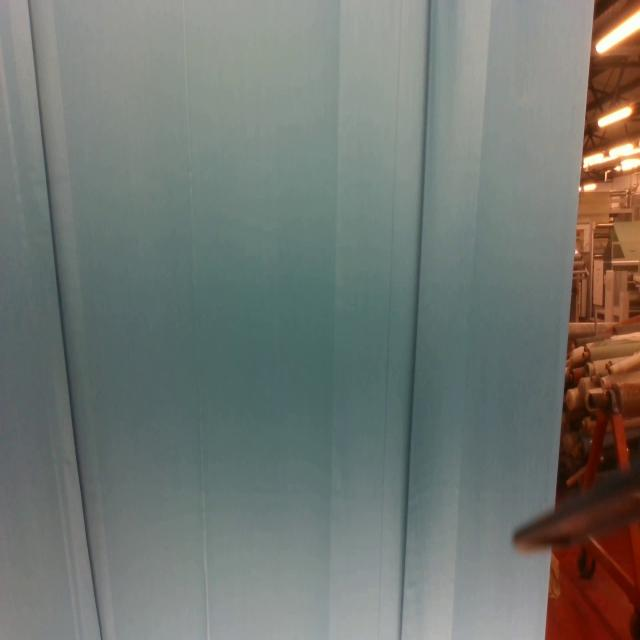crease: (26, 1, 103, 640), (397, 0, 433, 639), (181, 0, 212, 640)
